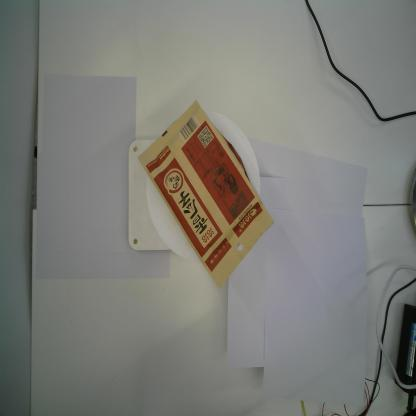Dried Food: (138, 100, 274, 290)
